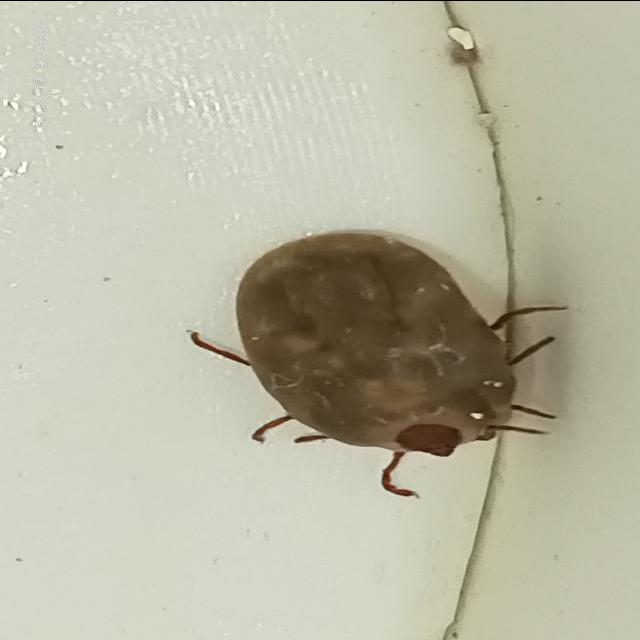Rhipicephalus Sanguineus-F-Fed: (187, 229, 569, 496)
